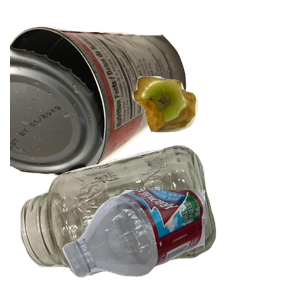glass: (18, 143, 227, 300)
metal: (10, 23, 193, 194)
plastic: (60, 190, 300, 280)
trash: (130, 74, 300, 199)
